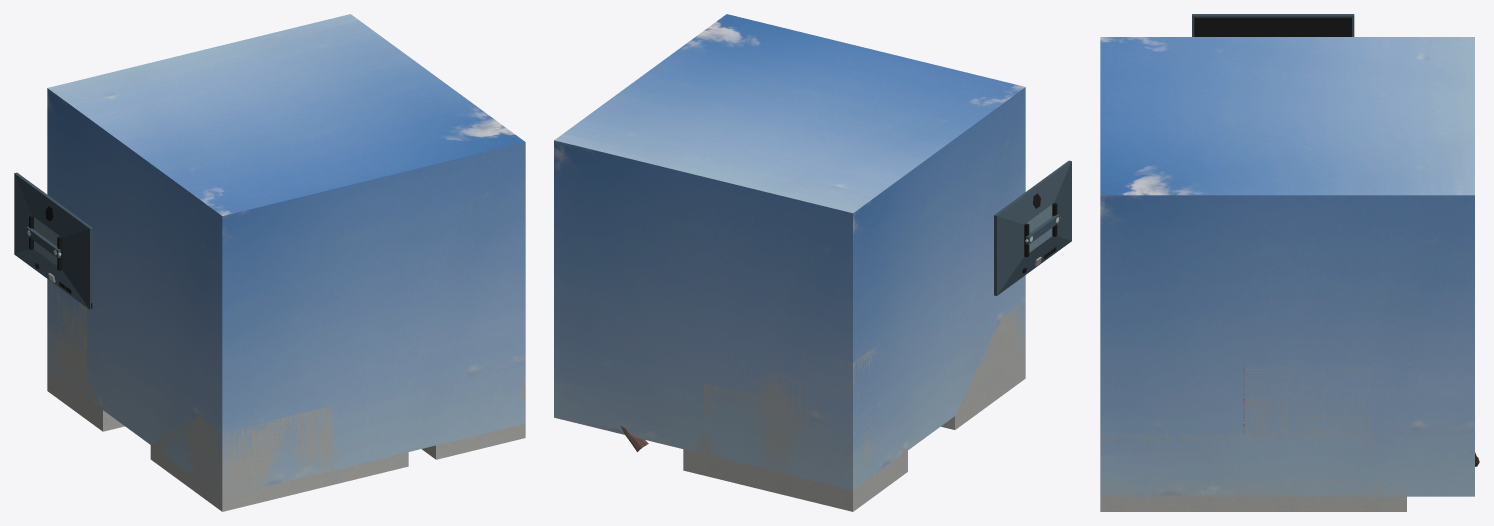
3 renders of one model, left to right at view 1: azimuth 30°, elevation 25°; view 2: azimuth 150°, elevation 25°; view 3: azimuth 270°, elevation 25°, orthographic. The views are drawn at different scales.
Visible parts, largest first — view 1: clouds-49520, PaintWallBlue_2, mat17, PaintWallBlue_1, PaintWall; view 2: clouds-49520, PaintWallBlue_1, mat17, PaintWallBlue_2; view 3: clouds-49520, PaintWall, ScreenMaterial, mat17.
Part boxes in pixels (bbox=[...]): clouds-49520: bbox=[47, 14, 525, 496]; PaintWallBlue_2: bbox=[150, 406, 408, 511]; mat17: bbox=[14, 172, 92, 309]; PaintWallBlue_1: bbox=[47, 280, 124, 431]; PaintWall: bbox=[422, 369, 525, 459]; clouds-49520: bbox=[554, 14, 1025, 490]; PaintWallBlue_1: bbox=[683, 347, 907, 511]; mat17: bbox=[994, 160, 1071, 295]; PaintWallBlue_2: bbox=[941, 302, 1025, 429]; clouds-49520: bbox=[1100, 37, 1474, 496]; PaintWall: bbox=[1100, 365, 1406, 511]; ScreenMaterial: bbox=[1194, 17, 1351, 36]; mat17: bbox=[1192, 14, 1354, 36].
Bounding box in the file's own units: 58.48 × 42 × 44.55.
